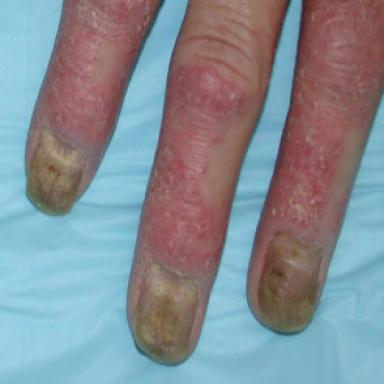eczema: (257, 2, 384, 243), (130, 66, 264, 283), (35, 2, 156, 175)
